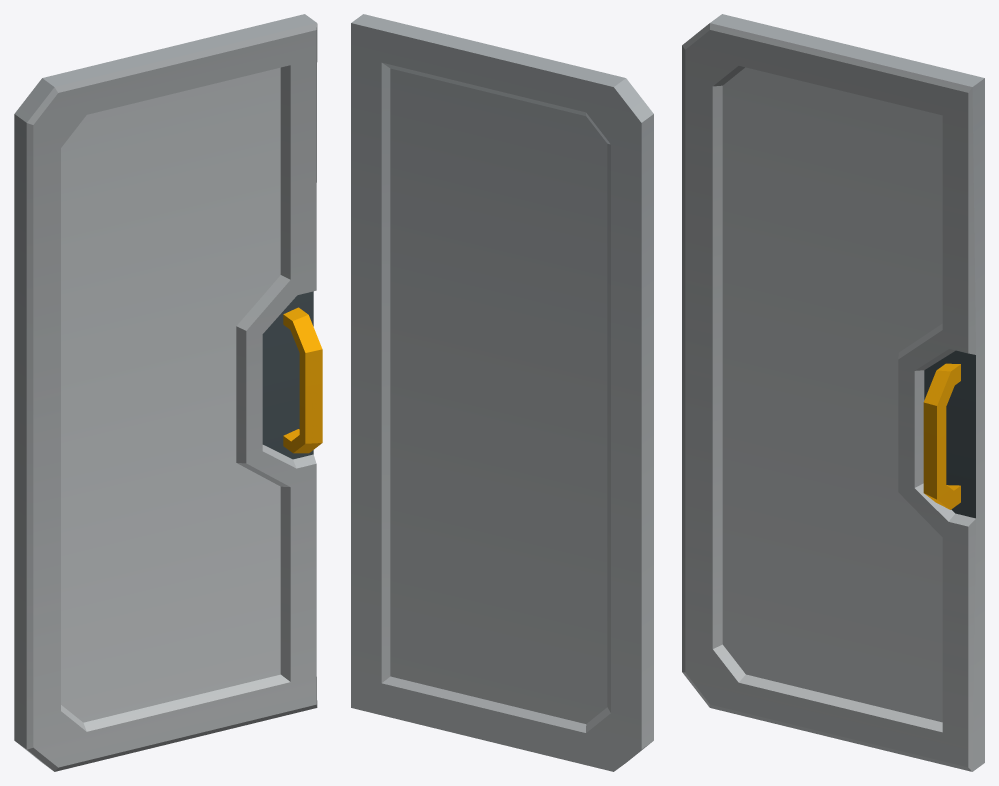
The model's file is Container_type_A_door_003.fbx.
3 views of the same model, side by side, from view 1: azimuth 30°, elevation 25°; view 2: azimuth 150°, elevation 25°; view 3: azimuth 330°, elevation 25° (orthographic).
Visible parts, largest first — view 1: Container_type_A_door_003; view 2: Container_type_A_door_003; view 3: Container_type_A_door_003.
Boxes of the visible parts, x1,y1,x2,y2 form: Container_type_A_door_003: [14, 14, 322, 771]; Container_type_A_door_003: [351, 14, 653, 771]; Container_type_A_door_003: [682, 14, 984, 771].
Size of the model in its own units: 94.88 by 18.52 by 214.
